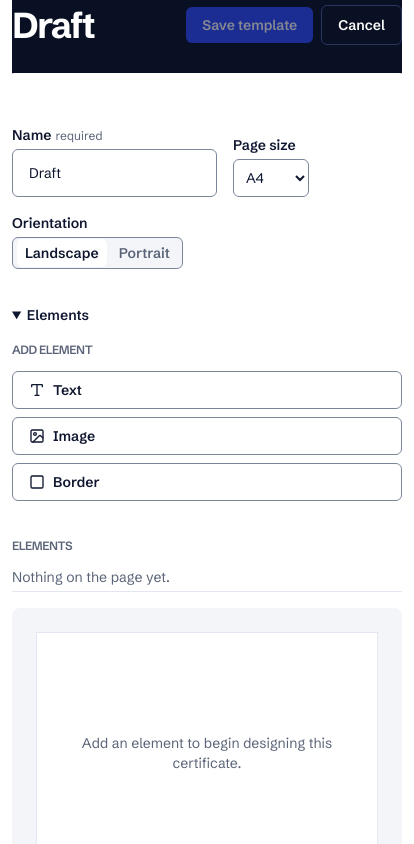
Test case: ElementInspector (via TemplateEditorShell) › gives every inspector input an accessible label
Click the button "Text". click: click(37, 390)
box: [12,371,402,409]
(page scrolled)
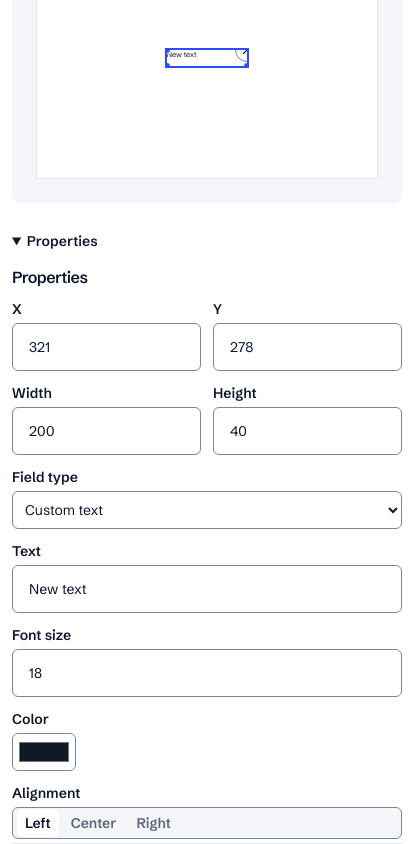
Result: the number field labelled "X" is shown at [12,323,201,371]
Result: the number field labelled "Y" is shown at [213,323,402,371]
Result: the number field labelled "Width" is shown at [12,407,201,455]
